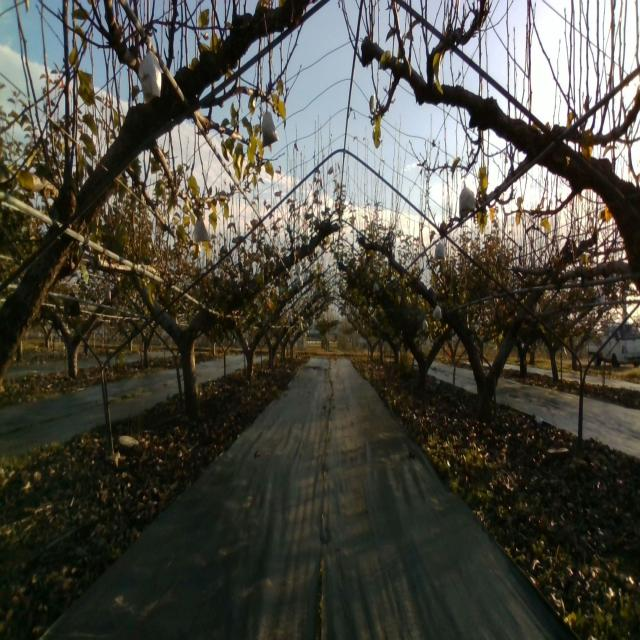pearbags: (138, 34, 162, 105), (260, 102, 280, 149), (459, 178, 477, 216), (192, 213, 212, 243), (434, 238, 447, 260)
